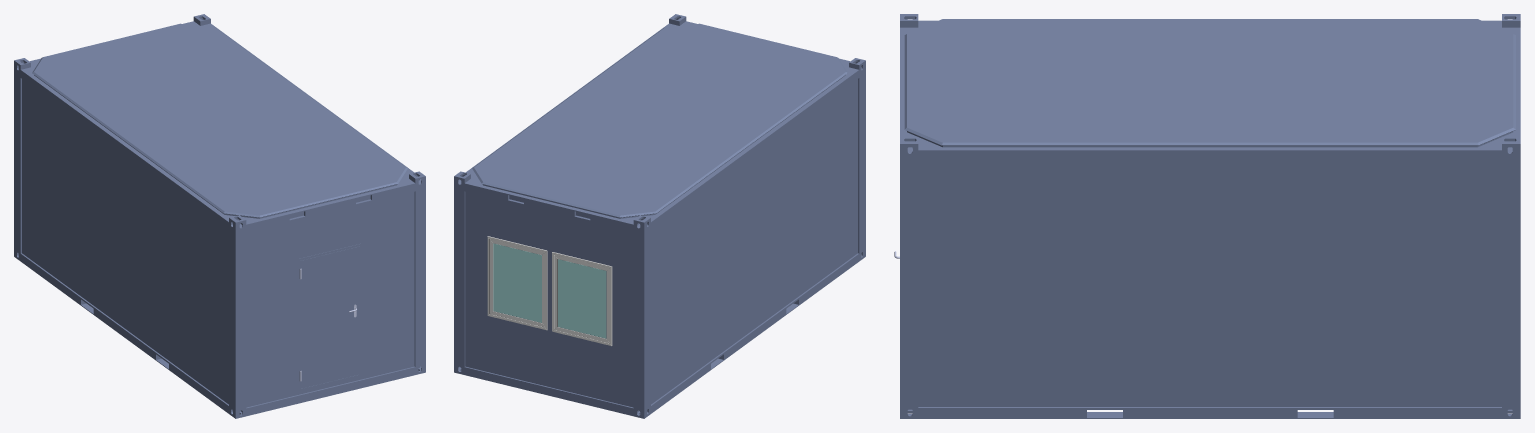
File: Büro stirnseitig HC 2960 BC 3000.obj
3 renders of one model, left to right at view 1: azimuth 30°, elevation 25°; view 2: azimuth 150°, elevation 25°; view 3: azimuth 270°, elevation 25°, orthographic. The views are drawn at different scales.
Visible parts, largest first — view 1: |Test_Bürocontainer~0|Root|Test-Büro2~0-1|color, |Test_Bürocontainer~0|Root|Cont-Tür~0-2|color-2; view 2: |Test_Bürocontainer~0|Root|Test-Büro2~0-1|color, |Test_Bürocontainer~0|Root|Cont-Fenster~0-3|color-4, |Test_Bürocontainer~0|Root|Cont-Fenster~0-1|color-4, |Test_Bürocontainer~0|Root|Cont-Fenster~0-3|color-5, |Test_Bürocontainer~0|Root|Cont-Fenster~0-1|color-5; view 3: |Test_Bürocontainer~0|Root|Test-Büro2~0-1|color.
Boxes of the visible parts, x1,y1,x2,y2 form: |Test_Bürocontainer~0|Root|Test-Büro2~0-1|color: (14,14,425,418); |Test_Bürocontainer~0|Root|Cont-Tür~0-2|color-2: (298,243,361,391); |Test_Bürocontainer~0|Root|Test-Büro2~0-1|color: (454,14,865,418); |Test_Bürocontainer~0|Root|Cont-Fenster~0-3|color-4: (558,259,606,338); |Test_Bürocontainer~0|Root|Cont-Fenster~0-1|color-4: (493,243,541,322); |Test_Bürocontainer~0|Root|Cont-Fenster~0-3|color-5: (552,252,612,345); |Test_Bürocontainer~0|Root|Cont-Fenster~0-1|color-5: (487,236,547,330); |Test_Bürocontainer~0|Root|Test-Büro2~0-1|color: (900,14,1520,418).
Bounding box in the file's own units: 3 × 2.96 × 6.11.
